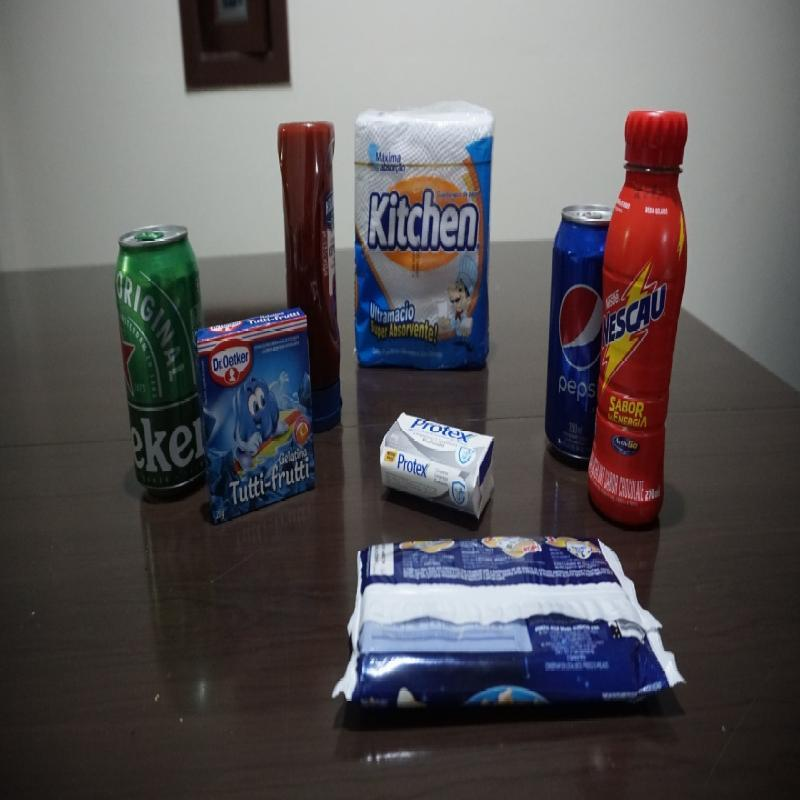Beer can: (112, 221, 210, 497)
Chocolate Milk: (583, 108, 689, 527)
Gelatine: (195, 307, 317, 526)
Ketchup: (277, 118, 344, 431)
Napkin: (353, 97, 499, 372)
Popcorn: (351, 533, 688, 716)
Soap: (377, 409, 494, 524)
Soda can: (542, 200, 608, 462)
